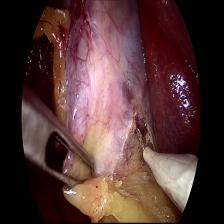Grasper: (18, 76, 101, 196)
Hook: (134, 125, 192, 206)
